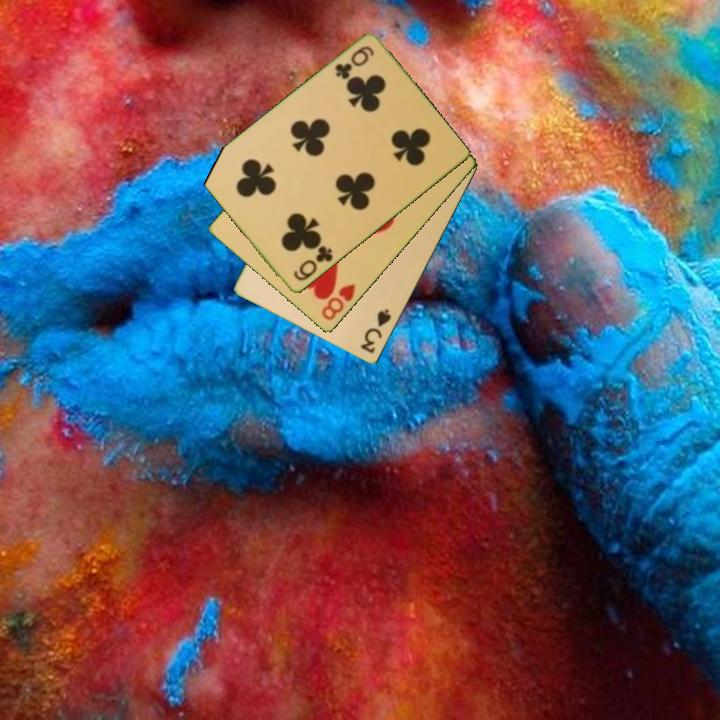3s: (357, 306, 394, 357)
6c: (290, 242, 336, 284), (331, 43, 377, 83)
8h: (318, 280, 358, 324)
